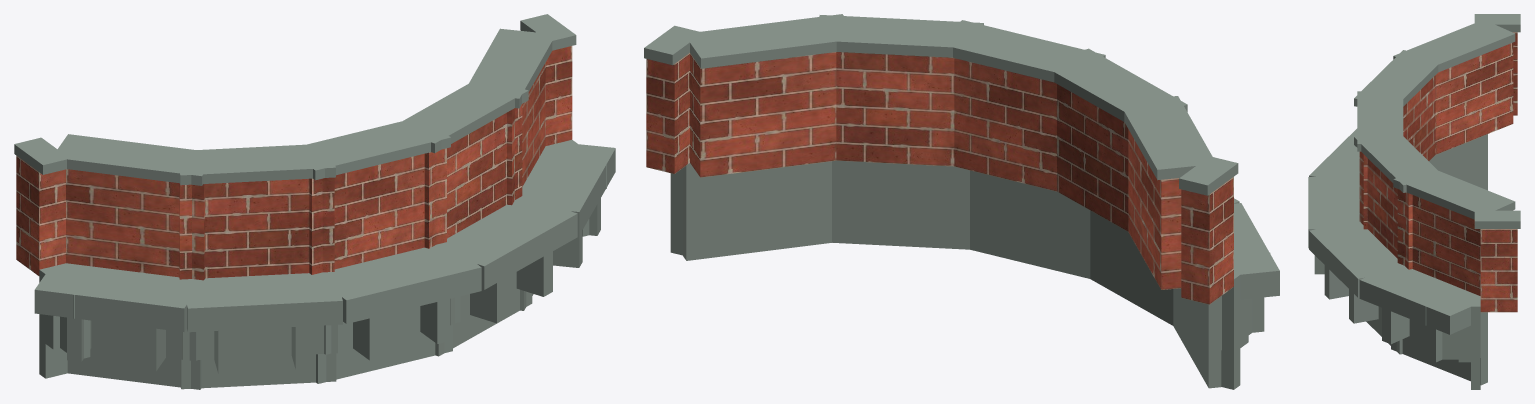
File: bay_top_a.glb
3 renders of one model, left to right at view 1: azimuth 30°, elevation 25°; view 2: azimuth 150°, elevation 25°; view 3: azimuth 270°, elevation 25°, orthographic. The views are drawn at different scales.
Parts seen in each view (by area): view 1: bay_top_a_metal, bay_top_a_brick; view 2: bay_top_a_metal, bay_top_a_brick; view 3: bay_top_a_metal, bay_top_a_brick.
Part boxes in pixels (x1=…): bay_top_a_metal: x1=14, y1=14, x2=615, y2=389; bay_top_a_brick: x1=16, y1=46, x2=572, y2=280; bay_top_a_metal: x1=644, y1=14, x2=1279, y2=389; bay_top_a_brick: x1=646, y1=52, x2=1233, y2=304; bay_top_a_metal: x1=1308, y1=14, x2=1520, y2=389; bay_top_a_brick: x1=1359, y1=32, x2=1517, y2=312.
Size of the model in its own units: 4.36 by 1.52 by 1.73.
Materials: 2 (1 with a texture image).
